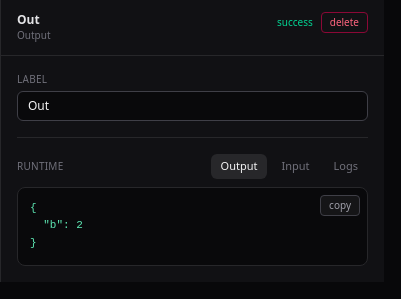
Test case: Inspector › switches runtime tabs
The image size is (401, 299).
Expected: the text "{ \"b\": 2 }" is shown, [17, 186, 368, 266]
What coordinates should you click on to do the following:
click the button "Input"
I would click on:
 (296, 166)
Its box is [272, 154, 320, 178].
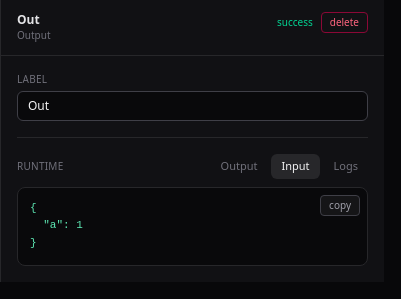
Now the text "{ \"a\": 1 }" is shown, box [17, 186, 368, 266]
